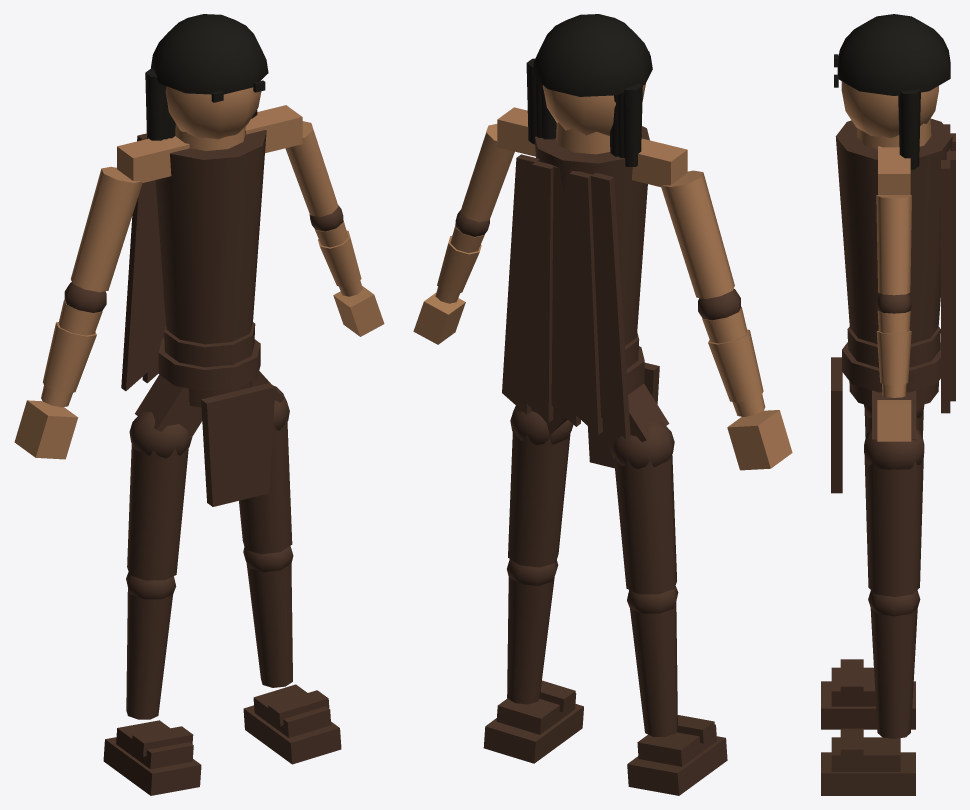
File: shanidar-body.glb
The picture shows the model from 3 angles, left to right: view 1: azimuth 30°, elevation 25°; view 2: azimuth 150°, elevation 25°; view 3: azimuth 270°, elevation 25°; orthographic projection. The views are drawn at different scales.
Visible parts, largest first — view 1: FittedTorso, Apron, HairCrown, Thigh-1, CapeFold0, UpperArm-1, Shin-1, Shin1, Thigh1, ShoulderLink (×2), Face, Hand-1 (+21 smaller); view 2: HairCrown, Thigh-1, CapeFold0, Thigh1, CapeFold1, CapeFold3, FittedTorso, UpperArm-1, CapeFold4, Shin-1, CapeFold2, Shin1 (+23 smaller); view 3: FittedTorso, HairCrown, Thigh1, Shin1, UpperArm1, Sandal1, Face, CapeFold4, Waist, Sash, Foot1, Sandal-1 (+15 smaller).
Part boxes in pixels (x1,y1,x2,y2): FittedTorso: (155,130,266,344); Apron: (201,383,275,506); HairCrown: (151,14,268,94); Thigh-1: (127,443,189,580); CapeFold0: (121,133,157,390); UpperArm-1: (71,166,142,292); Shin-1: (126,588,173,719); Shin1: (246,563,292,687); Thigh1: (239,417,292,554); ShoulderLink (×2): (117,105,302,183); Face: (165,80,261,139); Hand-1: (14,400,78,459); HairCrown: (532,14,652,96); Thigh-1: (613,454,676,594); CapeFold0: (590,173,630,438); Thigh1: (508,427,570,567); CapeFold1: (569,171,602,434); CapeFold3: (524,161,554,422); FittedTorso: (535,126,649,345); UpperArm-1: (661,170,734,298); CapeFold4: (502,154,539,414); Shin-1: (630,602,677,736); CapeFold2: (551,166,580,426); Shin1: (507,577,554,704); FittedTorso: (835,118,952,344); HairCrown: (837,14,950,95); Thigh1: (864,455,923,596); Shin1: (870,608,917,738); UpperArm1: (876,195,911,295); Sandal1: (821,752,915,795); Face: (841,81,938,137); CapeFold4: (941,160,950,413); Waist: (847,327,940,406); Sash: (842,342,940,392); Foot1: (831,737,900,771); Sandal-1: (821,681,915,729).
Size of the model in its own units: 0.8705 by 1.73 by 0.2885.
